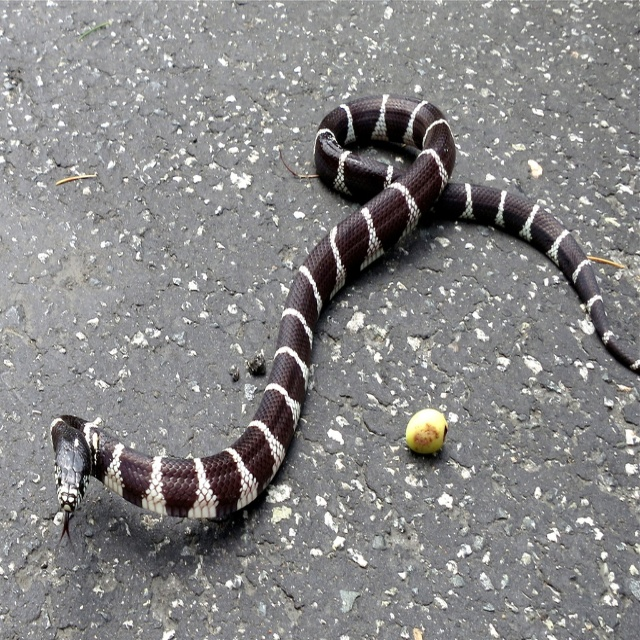Snake: (50, 94, 640, 551)
